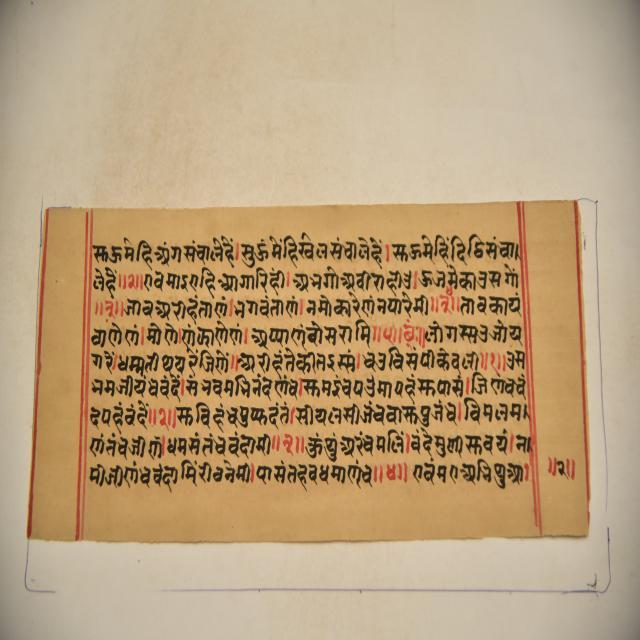text_paragraph: (25, 199, 589, 535)
